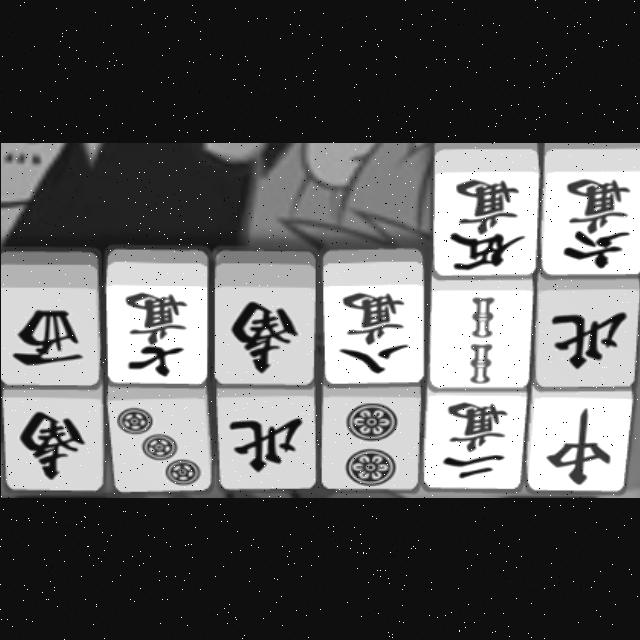2m: (430, 396, 524, 494)
2p: (322, 390, 418, 492)
2s: (434, 284, 530, 388)
3p: (108, 394, 210, 494)
5m: (432, 143, 540, 277)
6m: (544, 144, 638, 278)
7m: (104, 254, 208, 384)
8m: (318, 261, 424, 385)
chun: (533, 390, 627, 494)
nan: (209, 258, 315, 388), (4, 395, 100, 493)
pe: (215, 388, 315, 492), (540, 283, 638, 387)
sha: (2, 255, 96, 385)
